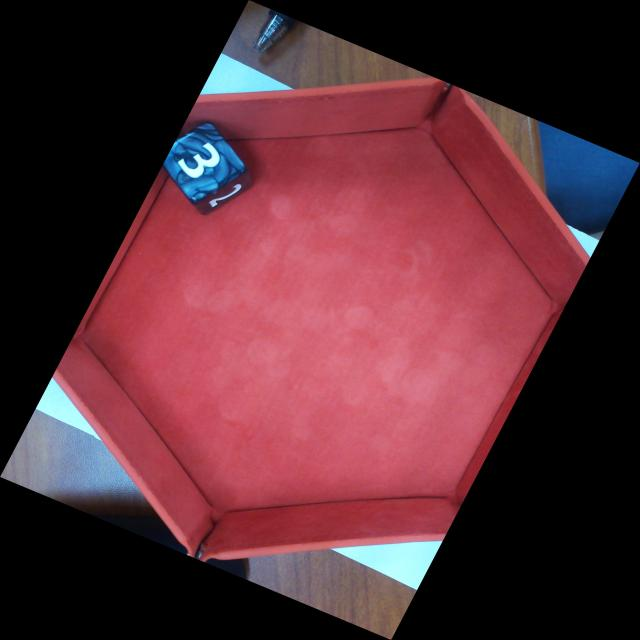dice: (153, 117, 250, 207)
